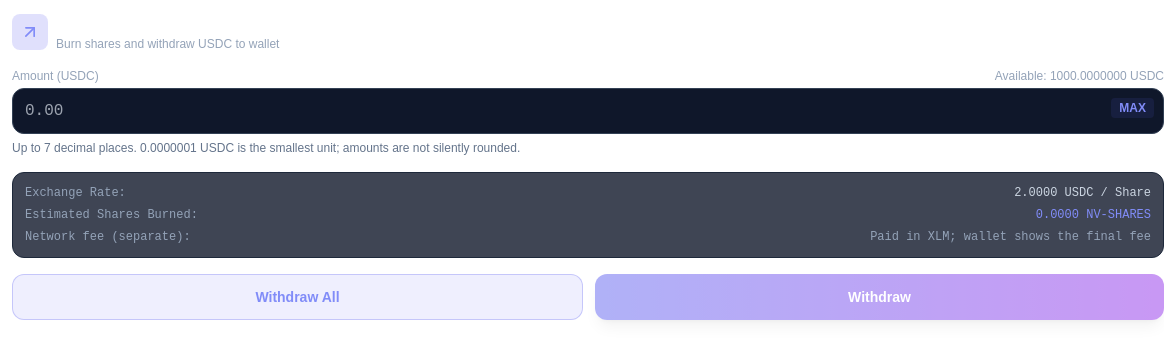
it: WithdrawForm Component Tests › shows preview calculations for estimated shares burned
Expected: the element named "withdraw preview" is shown, [12,172,1164,258]
Step 1. Type "40" into the number field named "withdraw amount" → (588, 111), box [12,88,1164,134]
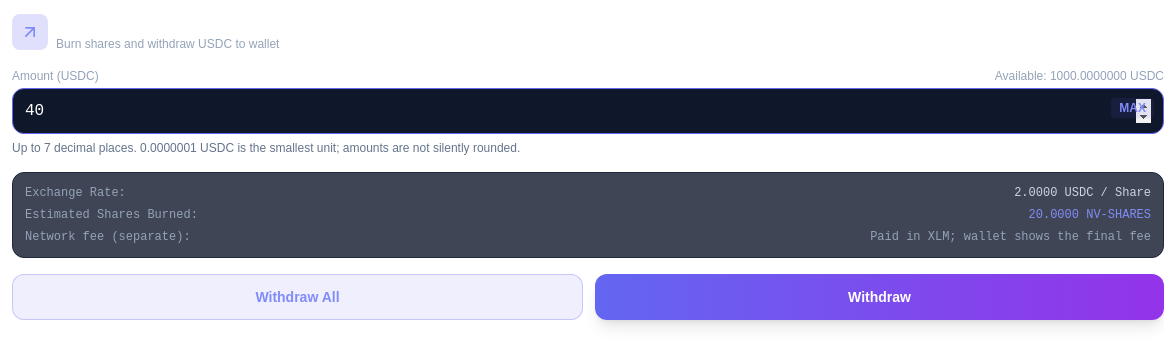
Expected: the text "20.0000 NV-SHARES" is shown, [1029,207,1151,223]
